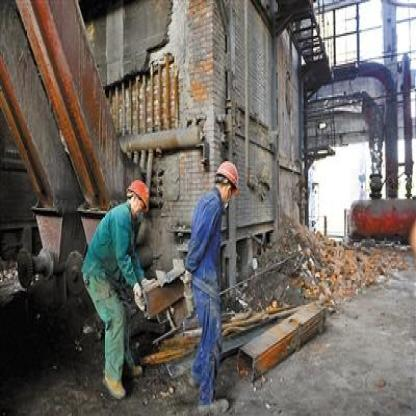helmet: (212, 159, 241, 205), (124, 177, 152, 221)
